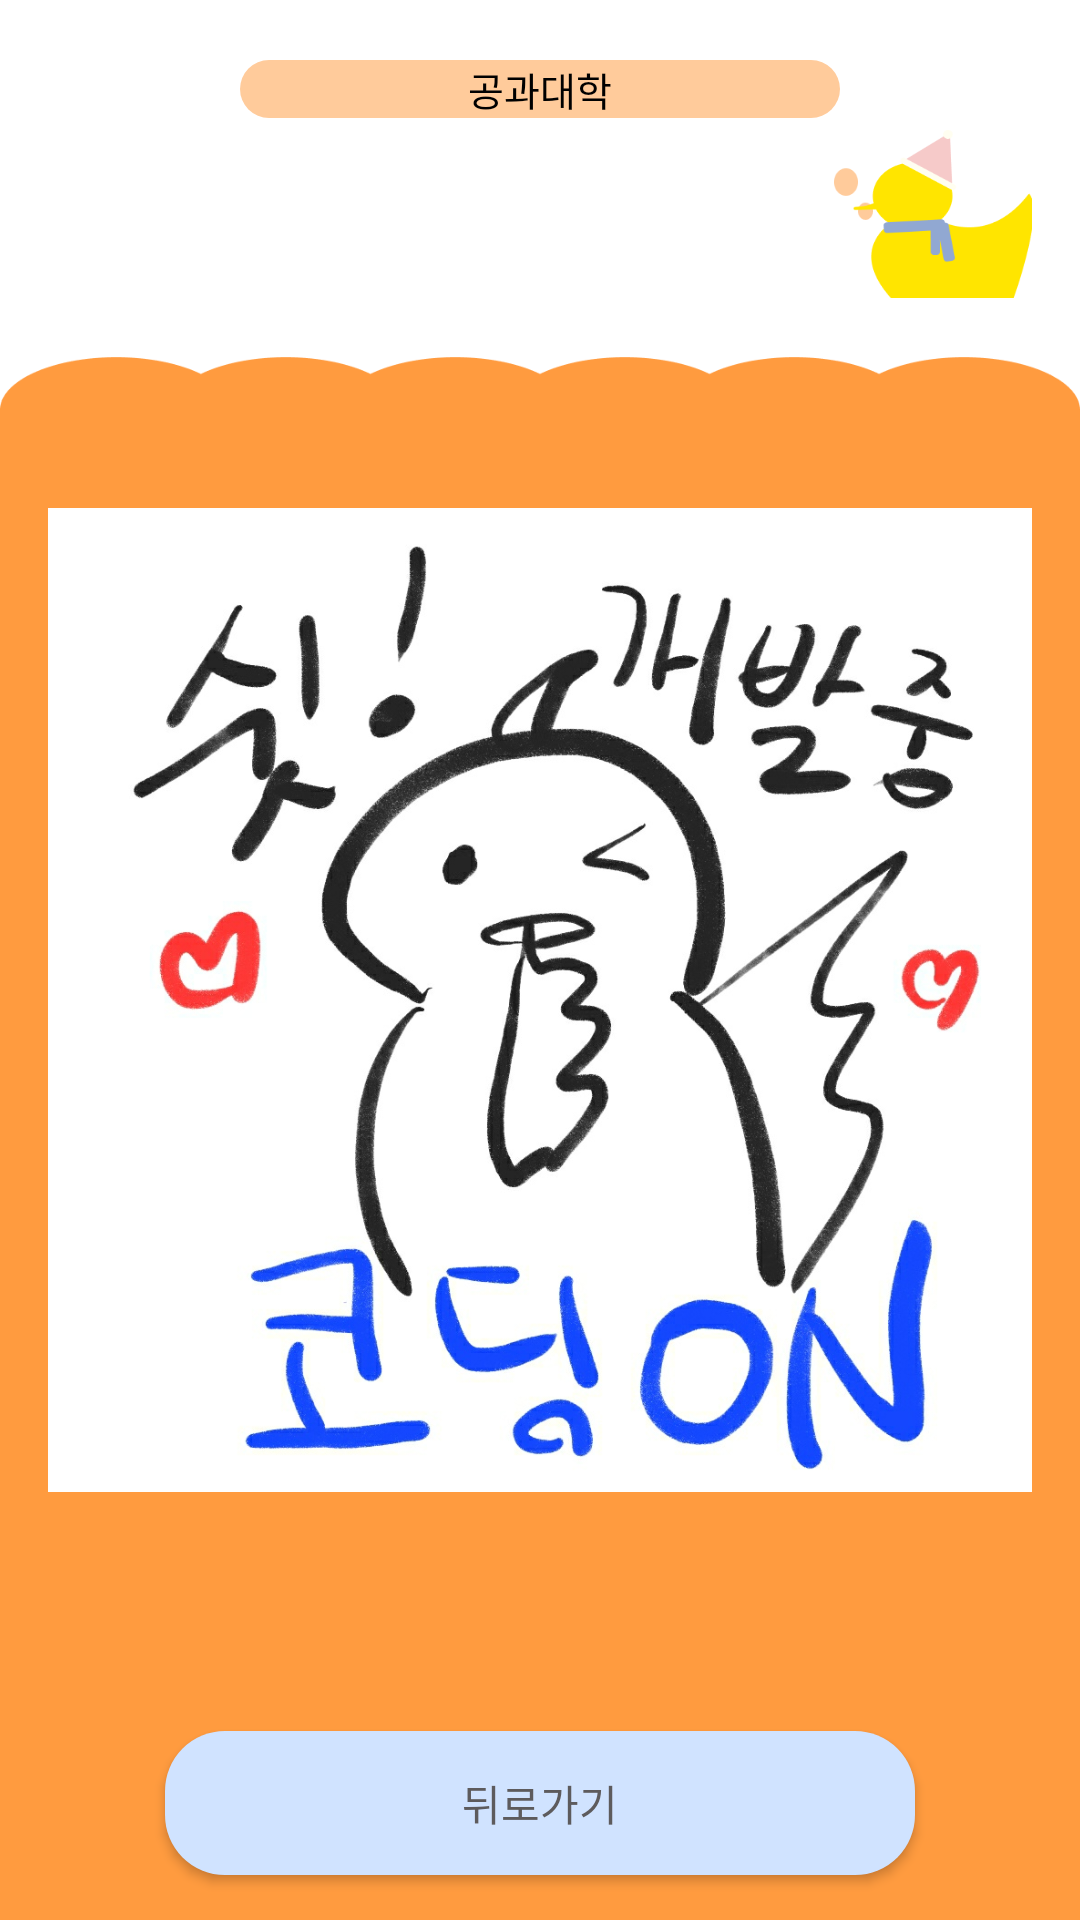

Where to tap for icons on this 1080*1920 app screen, as point (x, y):
duckicon: point (942, 217)
